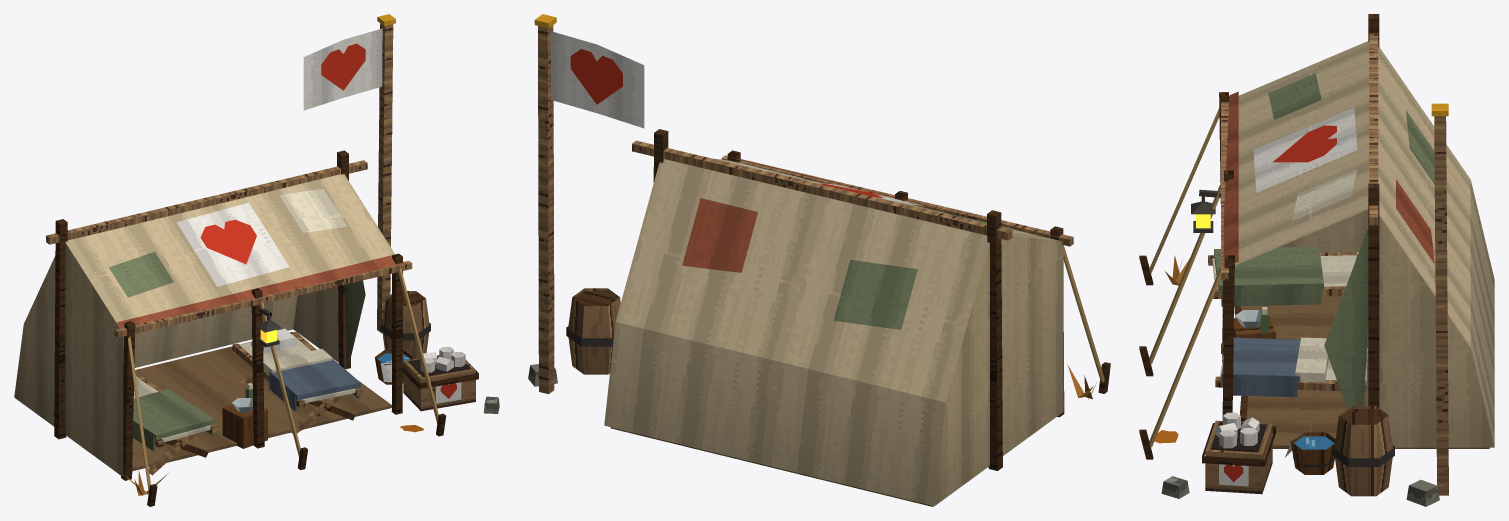
The model's file is infirmary.glb.
3 views of the same model, side by side, from view 1: azimuth 30°, elevation 25°; view 2: azimuth 150°, elevation 25°; view 3: azimuth 270°, elevation 25° (orthographic). The views are drawn at different scales.
Visible parts, largest first — view 1: infirmary, sway_flag; view 2: infirmary, sway_flag; view 3: infirmary.
Boxes of the visible parts, x1,y1,x2,y2 form: infirmary: (14, 14, 499, 506); sway_flag: (303, 28, 382, 110); infirmary: (528, 14, 1110, 506); sway_flag: (550, 31, 644, 128); infirmary: (1139, 14, 1494, 506).
Size of the model in its own units: 5.57 by 4.34 by 3.59.
29 materials, 16 textured.
